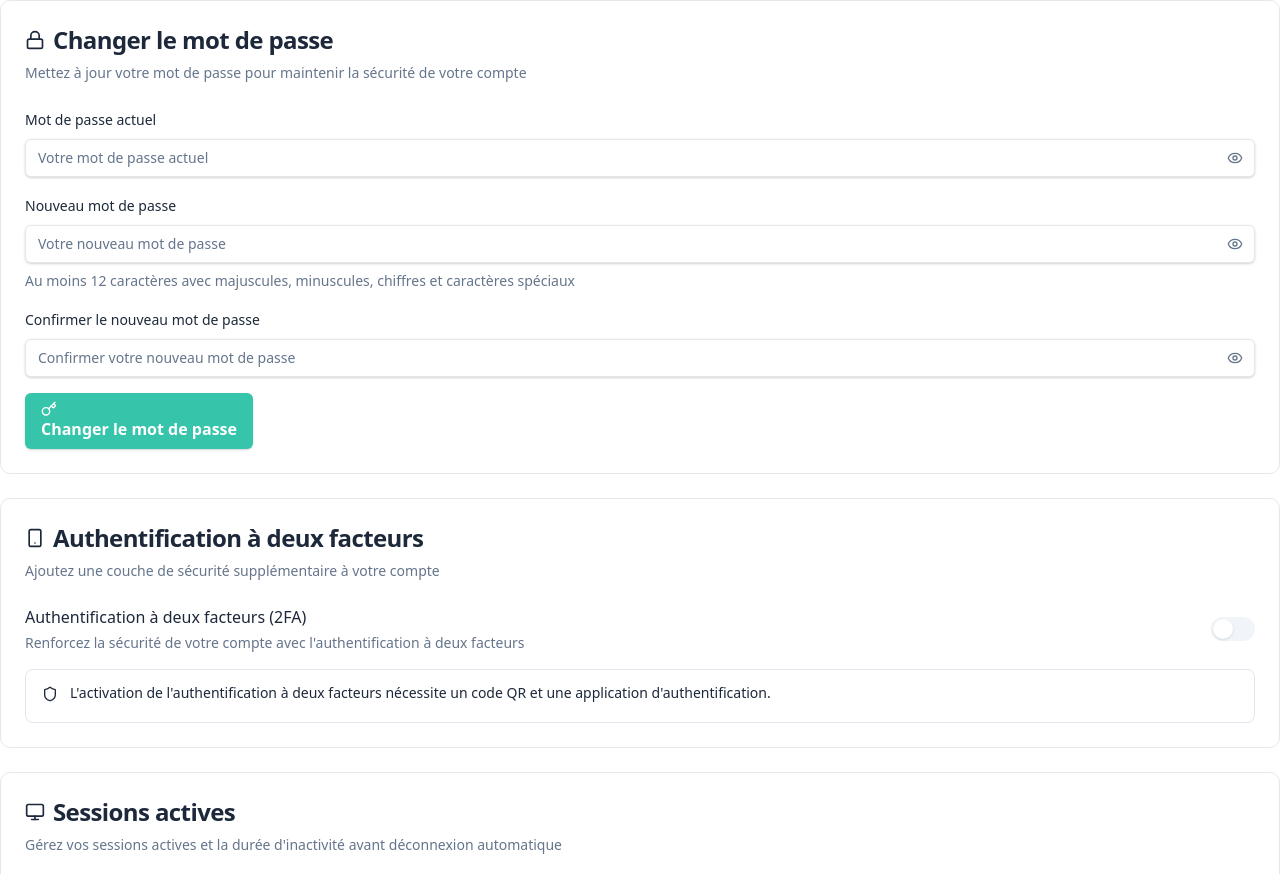
Scenario: SecurityTab error handling › shows error when password change fails
Type "CurrentPass1!" into the password field with placeholder "Votre mot de passe actuel" at [640, 158], box [25,139,1255,177]
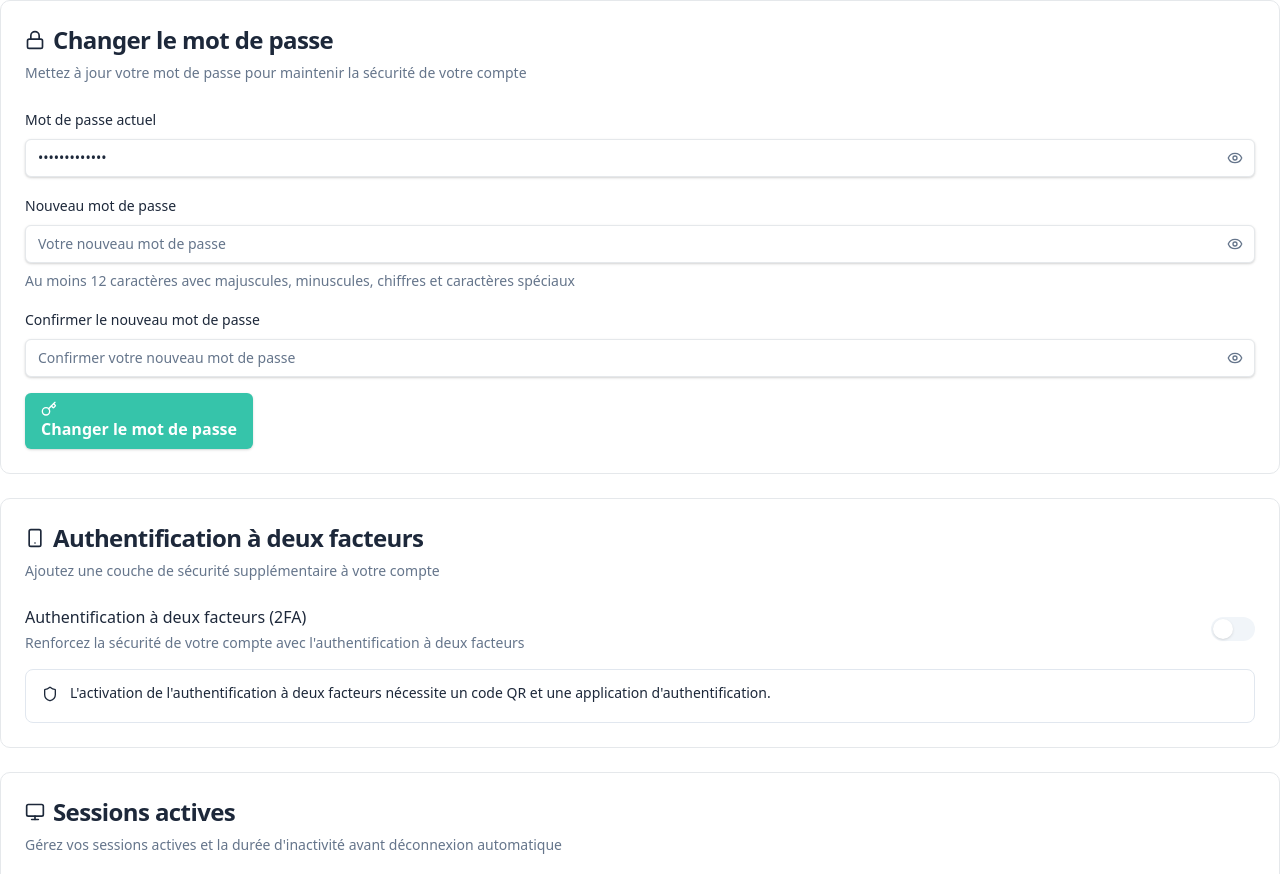
Type "NewPass123!@#" into the password field with placeholder "Votre nouveau mot de passe" at [640, 244], box [25,225,1255,263]
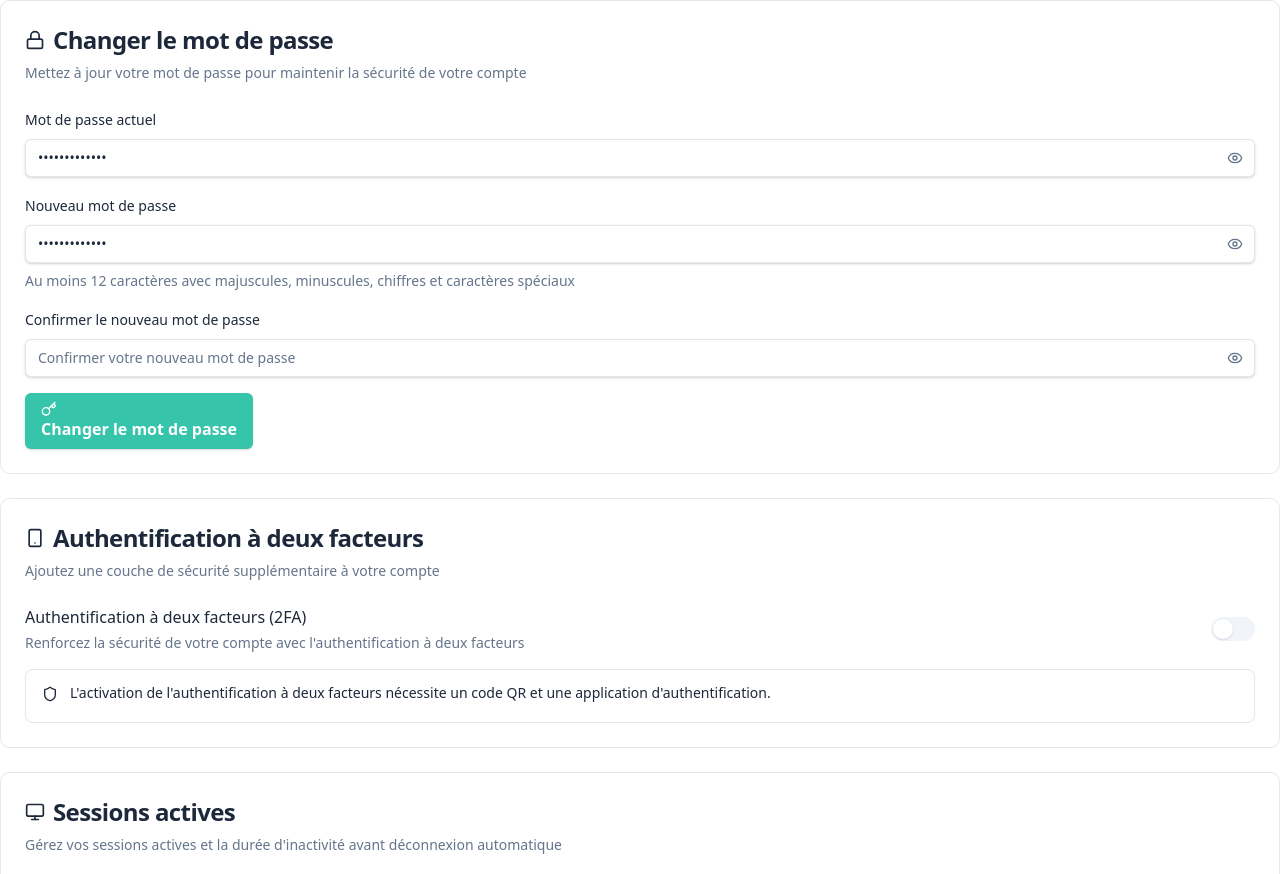
Type "NewPass123!@#" into the password field with placeholder "Confirmer votre nouveau mot de passe" at [640, 358], box [25,339,1255,377]
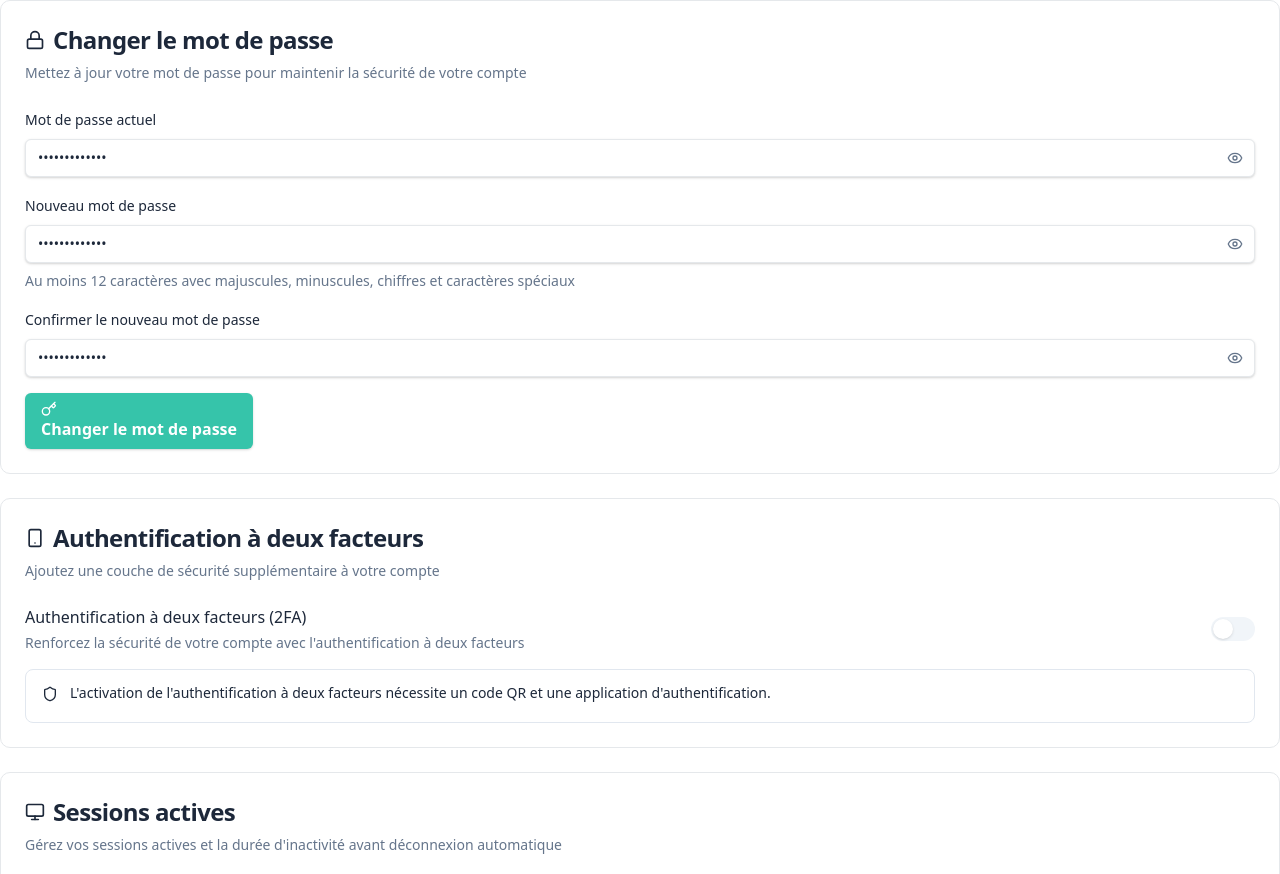
Click the button "Changer le mot de passe" at [139, 421], box [25,393,253,449]
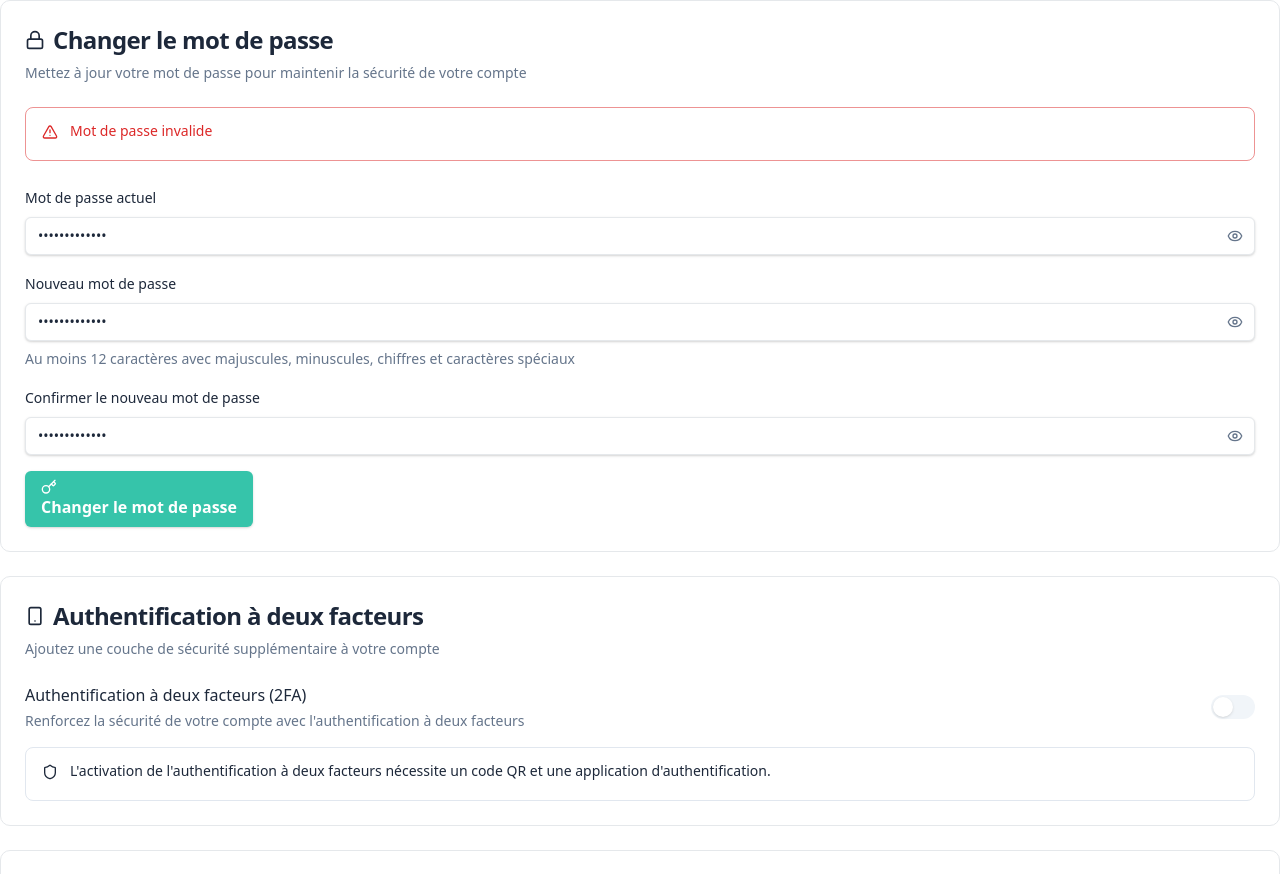
Now the text "Mot de passe invalide" is shown, box [70,121,212,140]
